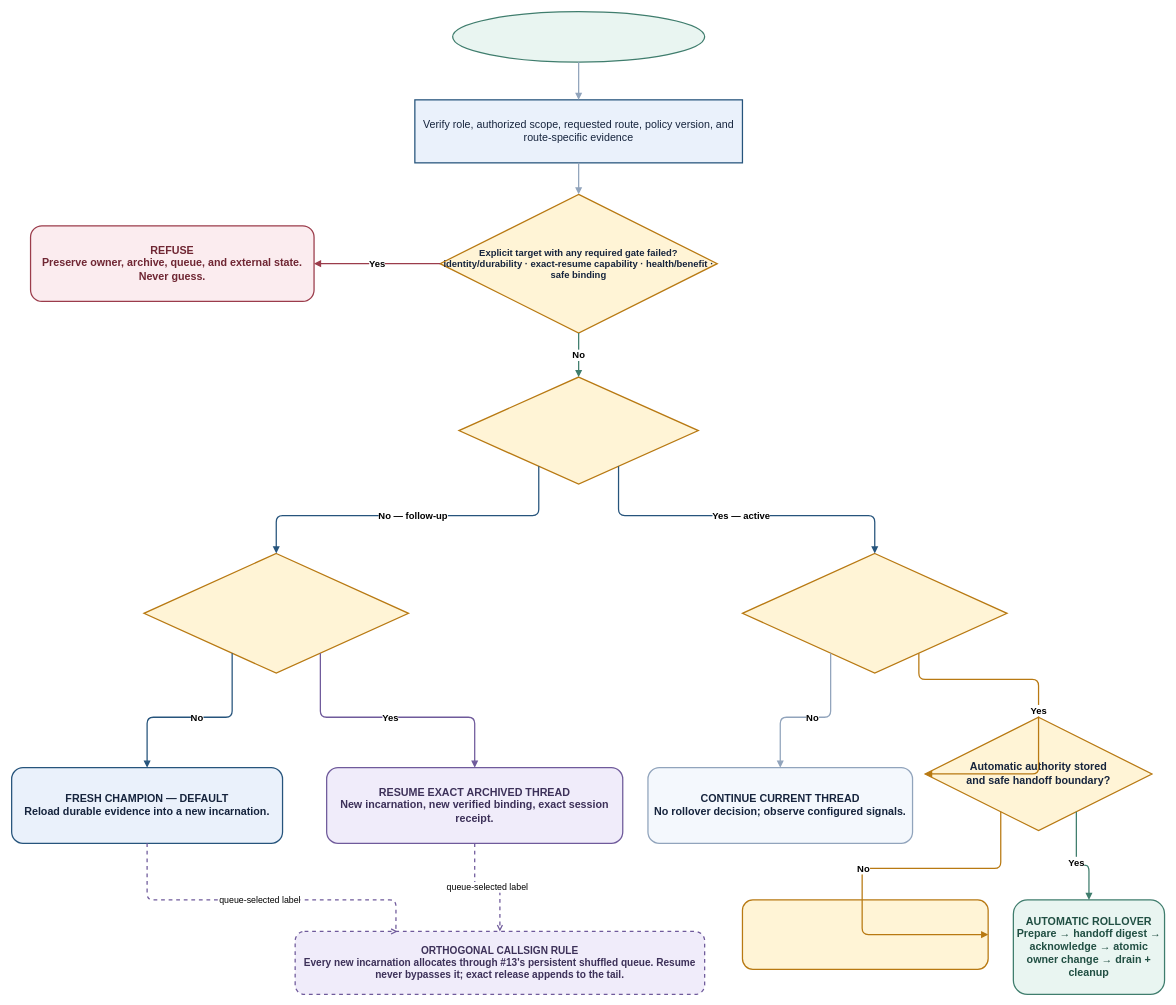
Some shapes in this 1176 by 1005 pixel diagram are drawn without their labels. The shapes that lost their labels are listed below. From the top down, each one's centre as x and y in pixels, then its label:
At point 578,36: "Follow-up or active-thread health trigger".
At point 578,430: "Is this an active thread health decision?".
At point 276,613: "Concrete continuity benefit and healthy exact archive?".
At point 874,613: "Hard declared health boundary or reconciled material drift?".
At point 865,934: "AWAIT AUTHORITY Record evidence; do not launch or switch.".
